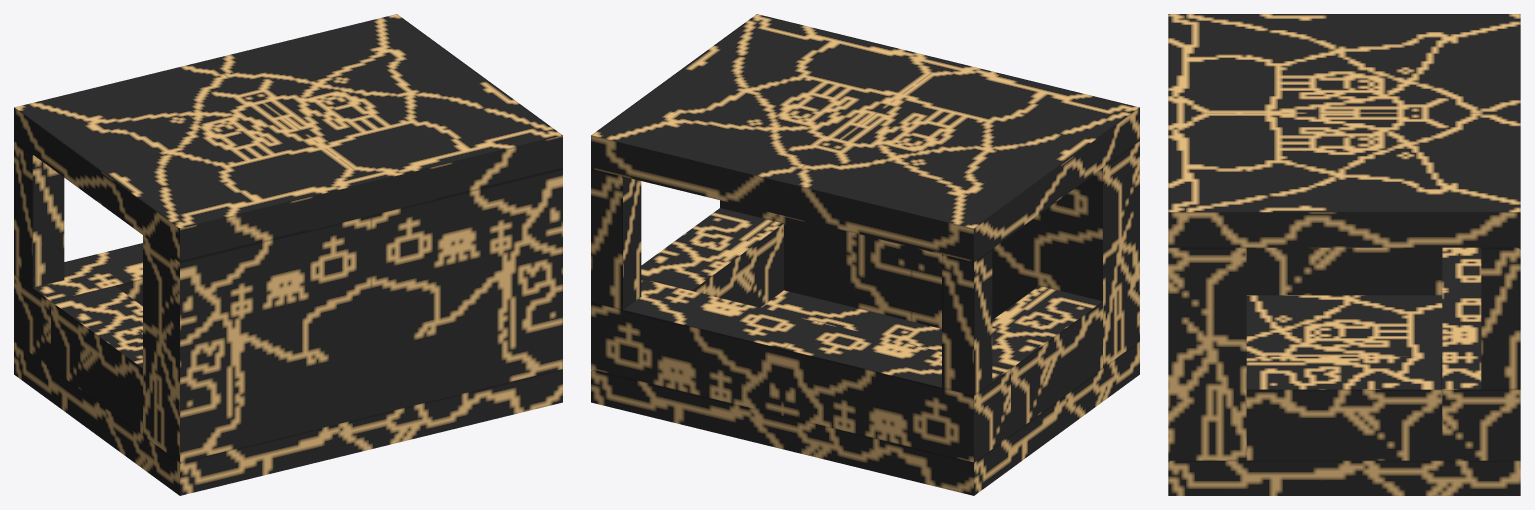
Rendered from Shop model.fbx.
3 views of the same model, side by side, from view 1: azimuth 30°, elevation 25°; view 2: azimuth 150°, elevation 25°; view 3: azimuth 270°, elevation 25° (orthographic). The views are drawn at different scales.
Visible parts, largest first — view 1: cube_4, cube_6, cube_1, cube_5, Base, cube_2, cube_8, cube; view 2: cube_6, cube_5, Base, cube, cube_4, cube_3, cube_2, cube_1, cube_7, cube_8, cube_9; view 3: cube_5, cube_6, Base, cube_7, cube_1, cube_2, cube_3, cube_9, cube.
Part boxes in pixels (left/top/right/bottom): cube_4: left=143, top=215, right=371, bottom=462; cube_6: left=14, top=60, right=371, bottom=261; cube_1: left=371, top=169, right=562, bottom=415; cube_5: left=206, top=14, right=562, bottom=215; Base: left=14, top=341, right=562, bottom=495; cube_2: left=51, top=286, right=142, bottom=435; cube_8: left=14, top=141, right=64, bottom=287; cube: left=14, top=243, right=142, bottom=367; cube_6: left=782, top=60, right=1139, bottom=261; cube_5: left=591, top=14, right=947, bottom=215; Base: left=591, top=290, right=1139, bottom=495; cube: left=782, top=322, right=1010, bottom=462; cube_4: left=911, top=141, right=1139, bottom=367; cube_3: left=591, top=278, right=818, bottom=415; cube_2: left=992, top=286, right=1102, bottom=435; cube_1: left=720, top=200, right=911, bottom=321; cube_7: left=641, top=208, right=783, bottom=307; cube_8: left=942, top=249, right=992, bottom=395; cube_9: left=591, top=169, right=641, bottom=309; cube_5: left=1168, top=113, right=1520, bottom=247; cube_6: left=1168, top=14, right=1520, bottom=113; Base: left=1168, top=295, right=1520, bottom=495; cube_7: left=1246, top=356, right=1442, bottom=460; cube_1: left=1168, top=212, right=1246, bottom=460; cube_2: left=1246, top=247, right=1442, bottom=295; cube_3: left=1442, top=290, right=1520, bottom=460; cube_9: left=1481, top=247, right=1520, bottom=389; cube: left=1442, top=247, right=1481, bottom=290.
Size of the model in its own units: 75 by 50 by 56.25.
Materials: 1 (1 with a texture image).
